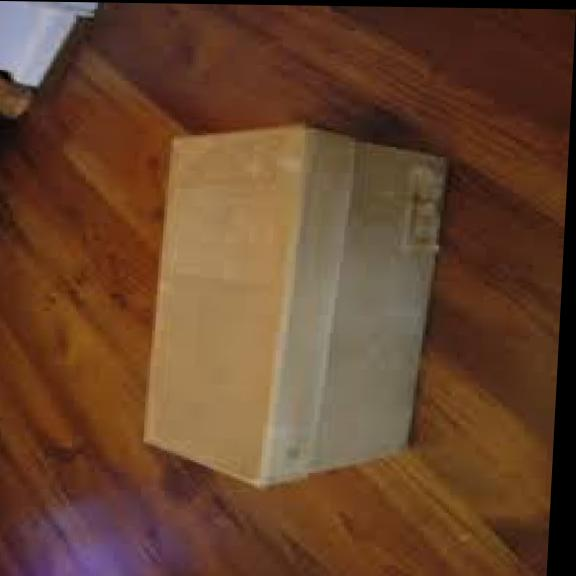Kertas: (149, 127, 438, 485)
